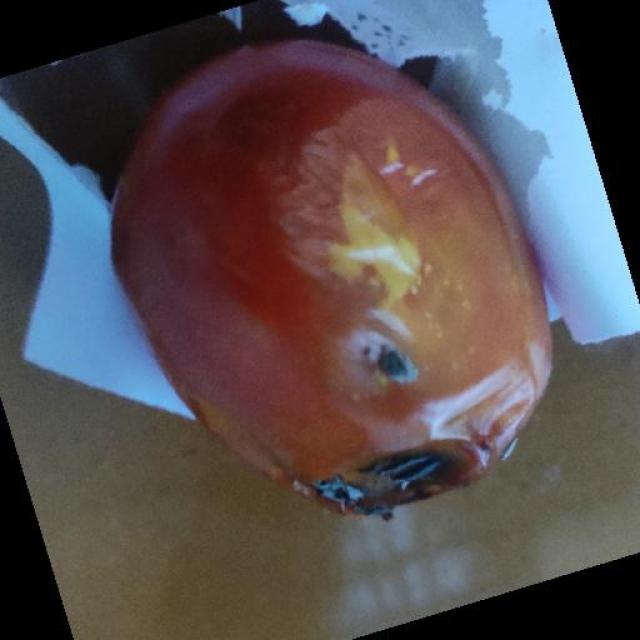Stale_tomato: (105, 63, 558, 507)
